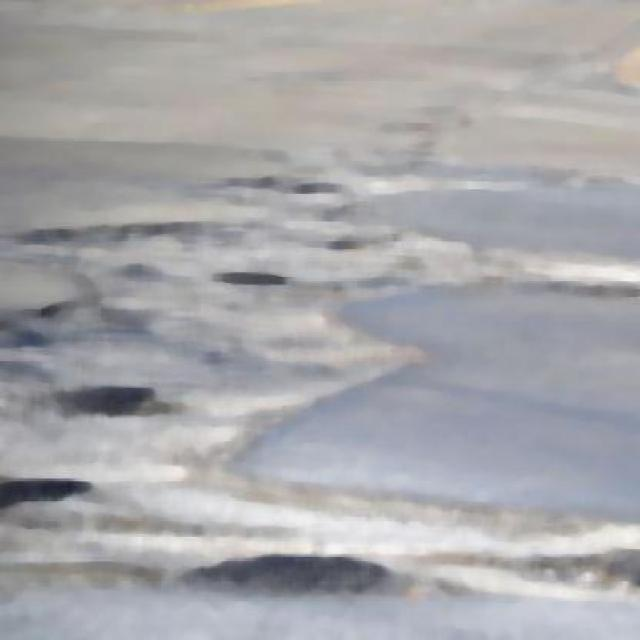Pothole: (139, 525, 427, 616), (185, 232, 358, 331), (42, 348, 200, 443), (0, 455, 117, 519)
